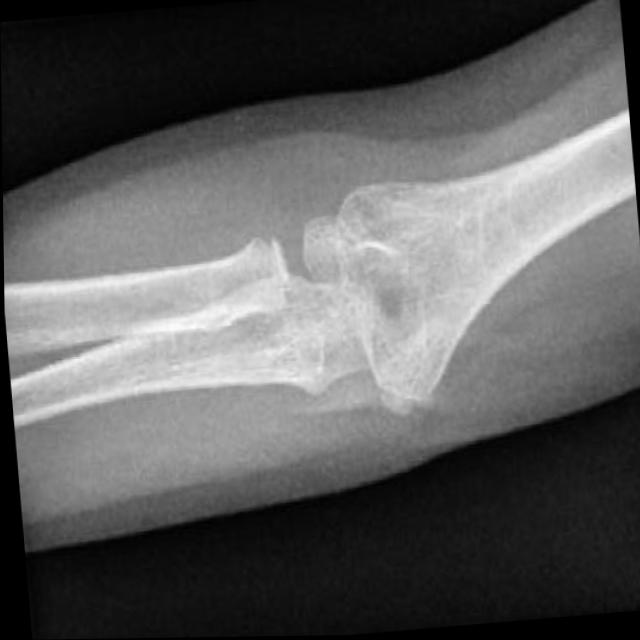fracture: (236, 195, 342, 326)
